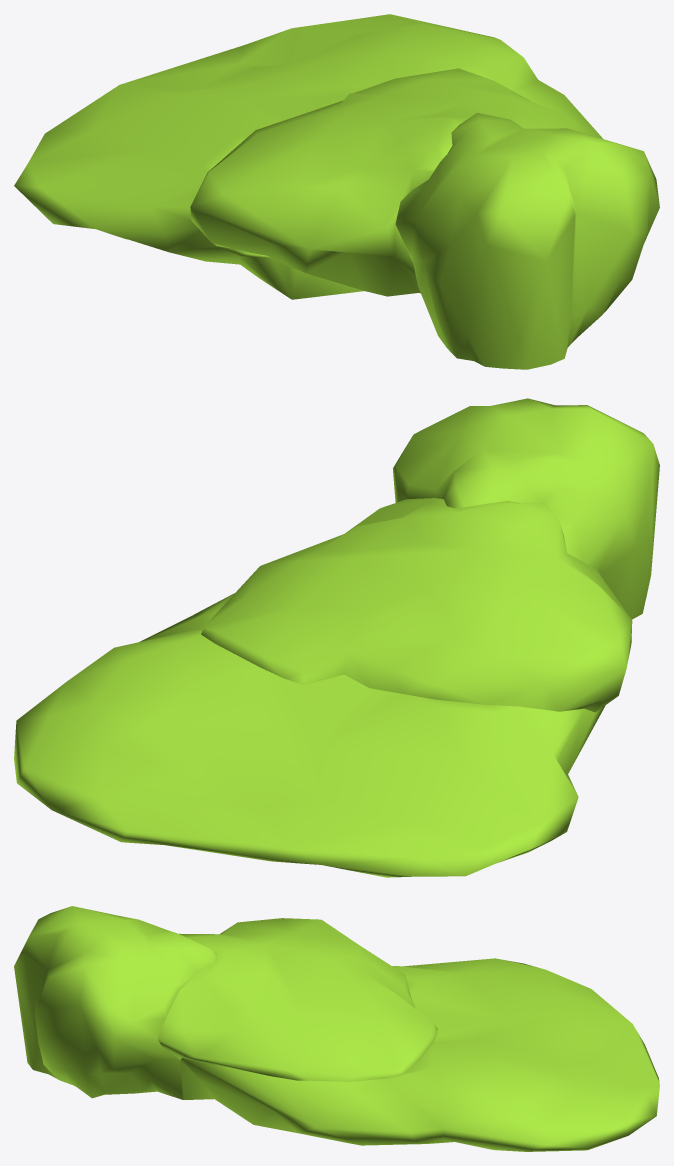
Rendered from env_garbage_slimeclump03.fbx.
3 views of the same model, one above another, from view 1: azimuth 30°, elevation 25°; view 2: azimuth 150°, elevation 25°; view 3: azimuth 270°, elevation 25° (orthographic). The views are drawn at different scales.
Parts seen in each view (by area): view 1: lod0_env_garbage_slimeclump03.001; view 2: lod0_env_garbage_slimeclump03.001; view 3: lod0_env_garbage_slimeclump03.001.
Boxes of the visible parts, left/top/right/bottom form: lod0_env_garbage_slimeclump03.001: left=14, top=14, right=659, bottom=369; lod0_env_garbage_slimeclump03.001: left=14, top=398, right=659, bottom=877; lod0_env_garbage_slimeclump03.001: left=14, top=906, right=659, bottom=1151.
Size of the model in its own units: 26 by 9.75 by 36.33.
